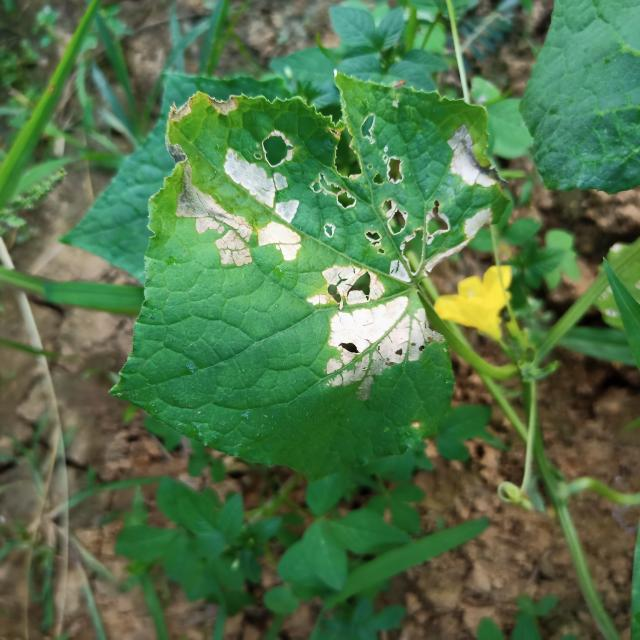disease_cucumber: (167, 100, 498, 268), (300, 256, 436, 399)
